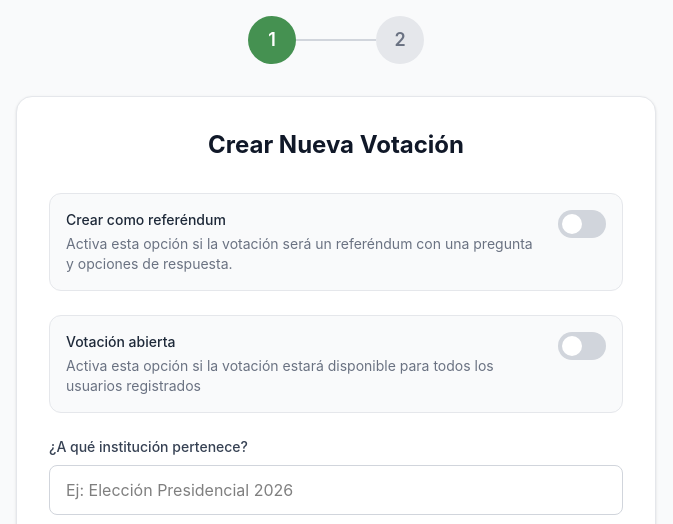
Test: votación abierta | asistente de creación › EA-P0-01-002 activa la advertencia de irreversibilidad al activar la votación abierta
The width and height of the screenshot is (673, 524).
Click the switch named "¿Es votación abierta?" at coordinates (582, 346), box [558,332,606,360]
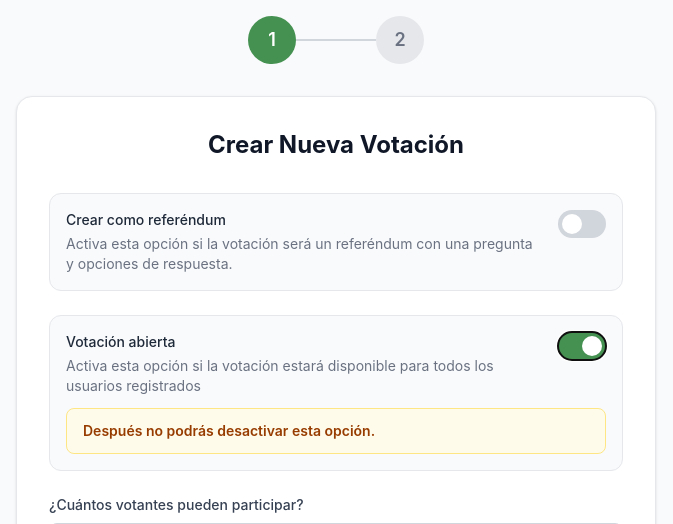
Expected: the text "Después no podrás desactivar esta opción." is shown, [66,408,606,454]
